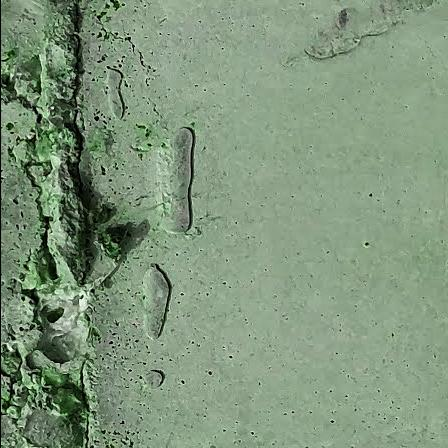crack: (82, 11, 156, 72), (69, 1, 85, 196)
spalling: (0, 214, 92, 448)
